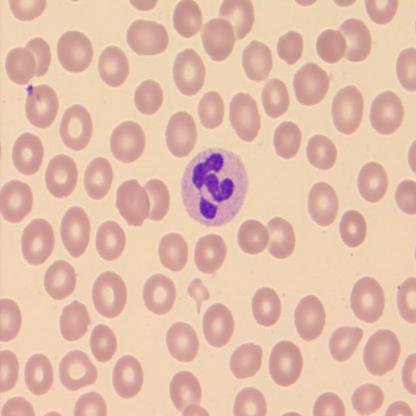Segmented neutrophil: (178, 145, 250, 228)
